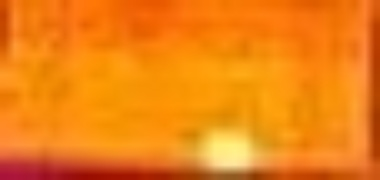Hotspot: (192, 123, 257, 176)
